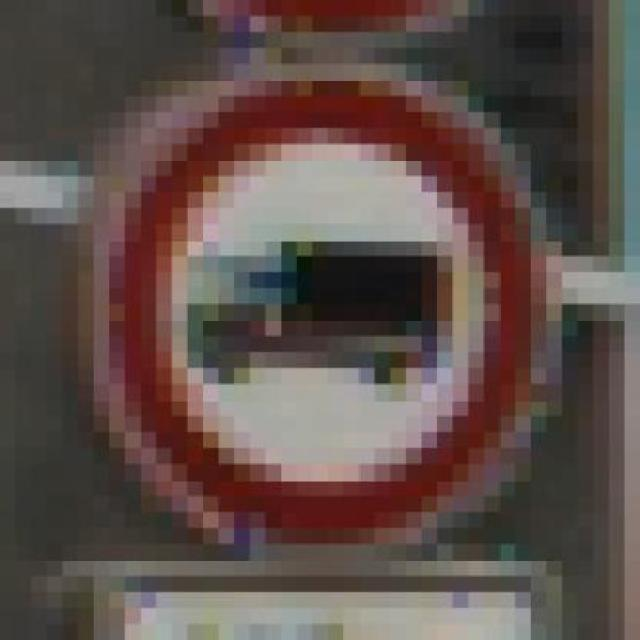Truck traffic is prohibited: (78, 48, 578, 544)
